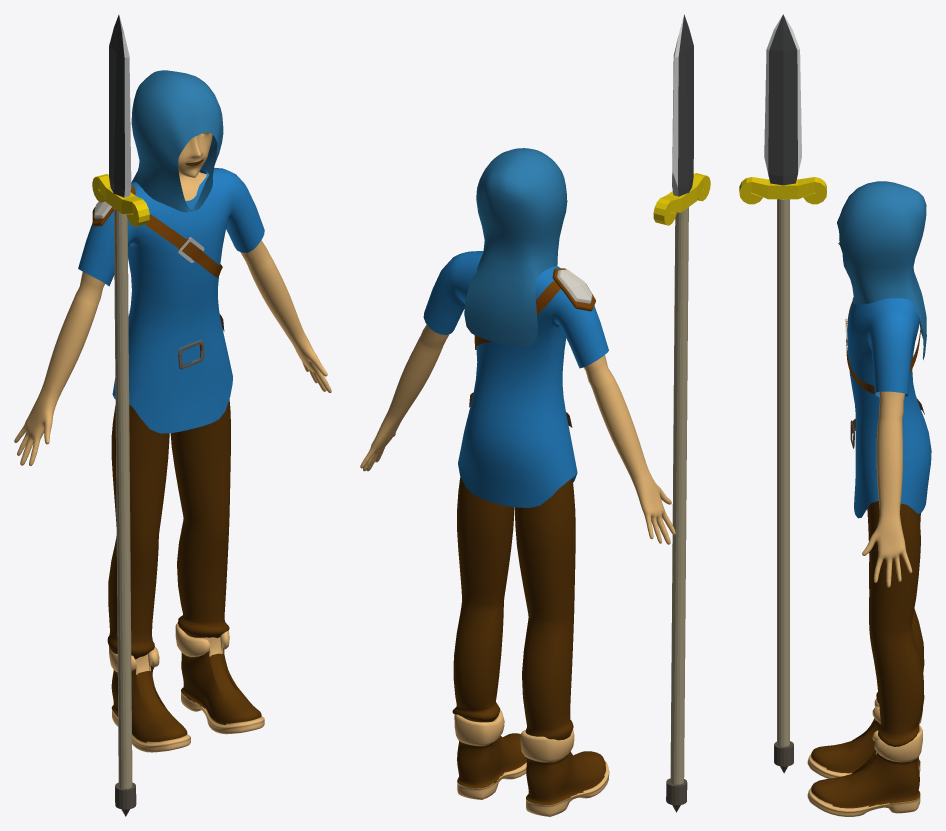
The model's file is Personnage_lance.fbx.
3 views of the same model, side by side, from view 1: azimuth 30°, elevation 25°; view 2: azimuth 150°, elevation 25°; view 3: azimuth 270°, elevation 25° (orthographic). The views are drawn at different scales.
Visible parts, largest first — view 1: tunique, pantalon, coprs, lance, capuche, épaulière; view 2: pantalon, tunique, coprs, capuche, lance, épaulière; view 3: lance, coprs, tunique, pantalon, capuche, épaulière.
Boxes of the visible parts, left/top/right/bottom form: tunique: left=78, top=168, right=264, bottom=433; pantalon: left=107, top=399, right=230, bottom=659; coprs: left=14, top=132, right=331, bottom=752; lance: left=92, top=14, right=149, bottom=816; capuche: left=131, top=70, right=223, bottom=212; épaulière: left=92, top=185, right=222, bottom=277; pantalon: left=452, top=477, right=575, bottom=740; tunique: left=423, top=251, right=608, bottom=507; coprs: left=360, top=324, right=675, bottom=816; capuche: left=464, top=148, right=567, bottom=345; lance: left=653, top=14, right=710, bottom=812; épaulière: left=474, top=268, right=595, bottom=349; lance: left=739, top=14, right=826, bottom=773; coprs: left=807, top=242, right=922, bottom=816; tunique: left=847, top=298, right=931, bottom=518; pantalon: left=867, top=501, right=924, bottom=746; capuche: left=837, top=181, right=926, bottom=359; épaulière: left=845, top=301, right=920, bottom=394.
Bounding box in the file's own units: 461 × 1158 × 267.
